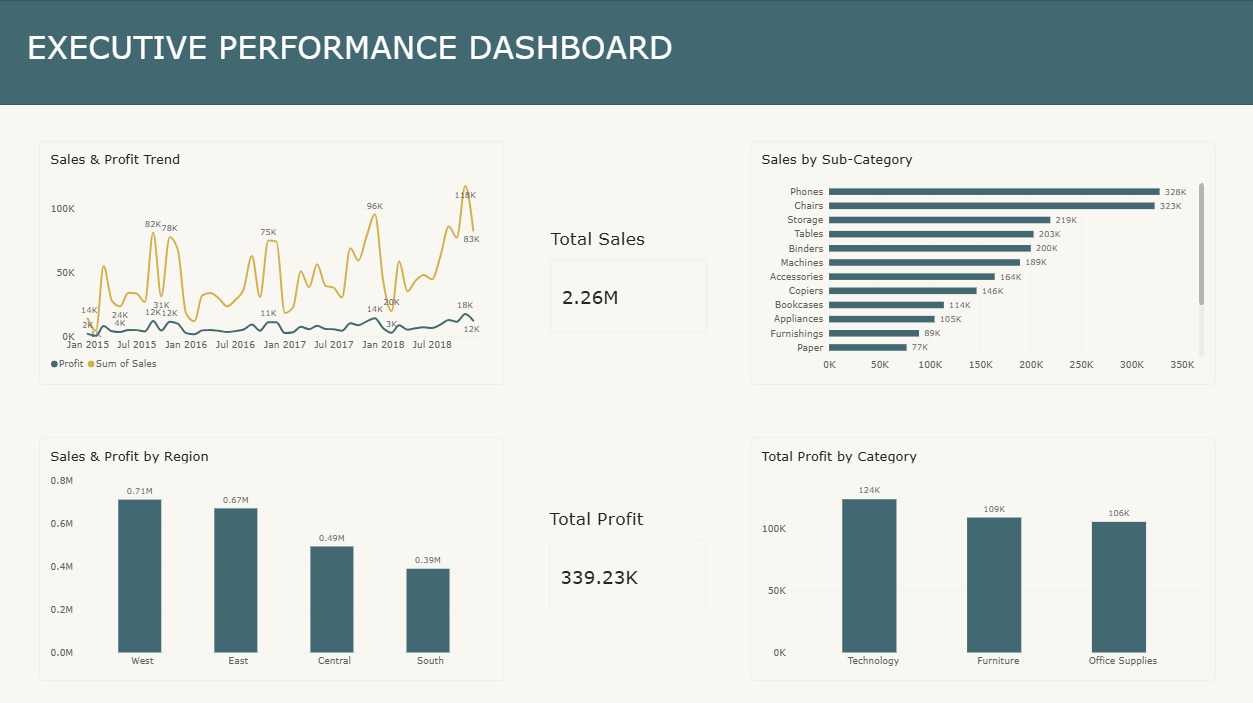

The dashboard page shown, as its layout file describes it:
{"tool":"powerbi","page":{"name":"Page 1","canvas":[1920,1080],"ordinal":0},"visuals":[{"type":"lineChart","title":"Sales & Profit Trend","fields":{"Category":["train.Order Date.Variation.Date Hierarchy.Year","train.Order Date.Variation.Date Hierarchy.Month"],"Y":["train.Profit","Sum(train.Sales)"]},"box":[62.9,215.3,708.8,371.6],"z":0},{"type":"clusteredBarChart","title":"Sales by Sub-Category","fields":{"Category":["train.Sub-Category"],"Y":["Sum(train.Sales)"]},"box":[1147.1,215.3,708.8,371.6],"z":1000},{"type":"clusteredColumnChart","title":"Sales & Profit by Region","fields":{"Category":["train.Region"],"Y":["Sum(train.Sales)"]},"box":[62.9,666.9,708.8,371.6],"z":2000},{"type":"clusteredColumnChart","title":"Total Profit by Category","fields":{"Category":["train.Category"],"Y":["train.Profit"]},"box":[1147.1,666.9,708.8,371.6],"z":3000},{"type":"shape","box":[0,0,1920.7,160.1],"z":4000},{"type":"textbox","box":[42.9,41,1004.9,103.4],"z":5000},{"type":"cardVisual","title":"Total Profit","fields":{"Data":["train.Profit"]},"box":[840.3,773.6,238,160],"z":6000},{"type":"cardVisual","title":"Total Sales","fields":{"Data":["Sum(train.Sales)"]},"box":[842.2,346.8,238,160],"z":7000}]}

Visuals, with their boxes in screenshot pixels (x1, y1, x2, y2), scaled from the page's 1920x1080 canvas onto the 1253x703 screenshot:
"Sales & Profit Trend" lineChart: (41,140,504,382)
"Sales by Sub-Category" clusteredBarChart: (749,140,1211,382)
"Sales & Profit by Region" clusteredColumnChart: (41,434,504,676)
"Total Profit by Category" clusteredColumnChart: (749,434,1211,676)
shape: (0,0,1252,104)
textbox: (28,27,684,94)
"Total Profit" cardVisual: (548,504,704,608)
"Total Sales" cardVisual: (550,226,705,330)
